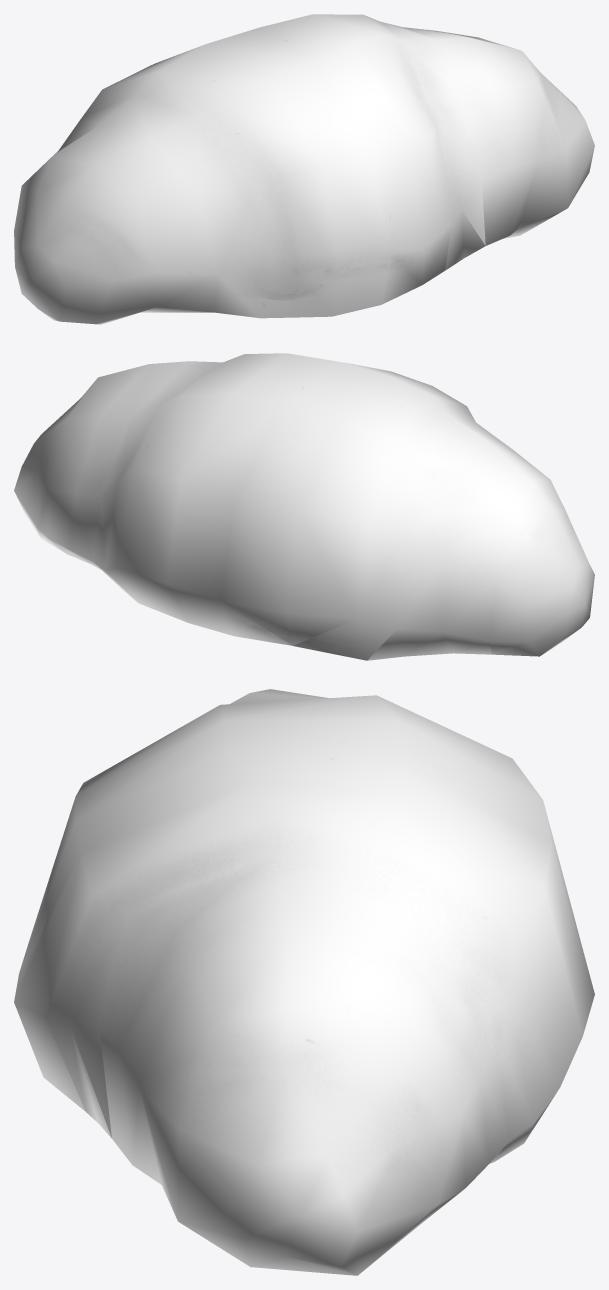
The model's file is RollBread.fbx.
The picture shows the model from 3 angles, top to bottom: view 1: azimuth 30°, elevation 25°; view 2: azimuth 150°, elevation 25°; view 3: azimuth 270°, elevation 25°; orthographic projection. The views are drawn at different scales.
Parts seen in each view (by area): view 1: Mesh; view 2: Mesh; view 3: Mesh.
Part boxes in pixels (x1,y1,x2,y2): Mesh: (14,14,594,324); Mesh: (14,353,594,660); Mesh: (14,689,594,1275).
Size of the model in its own units: 11.24 by 4.29 by 6.54.
